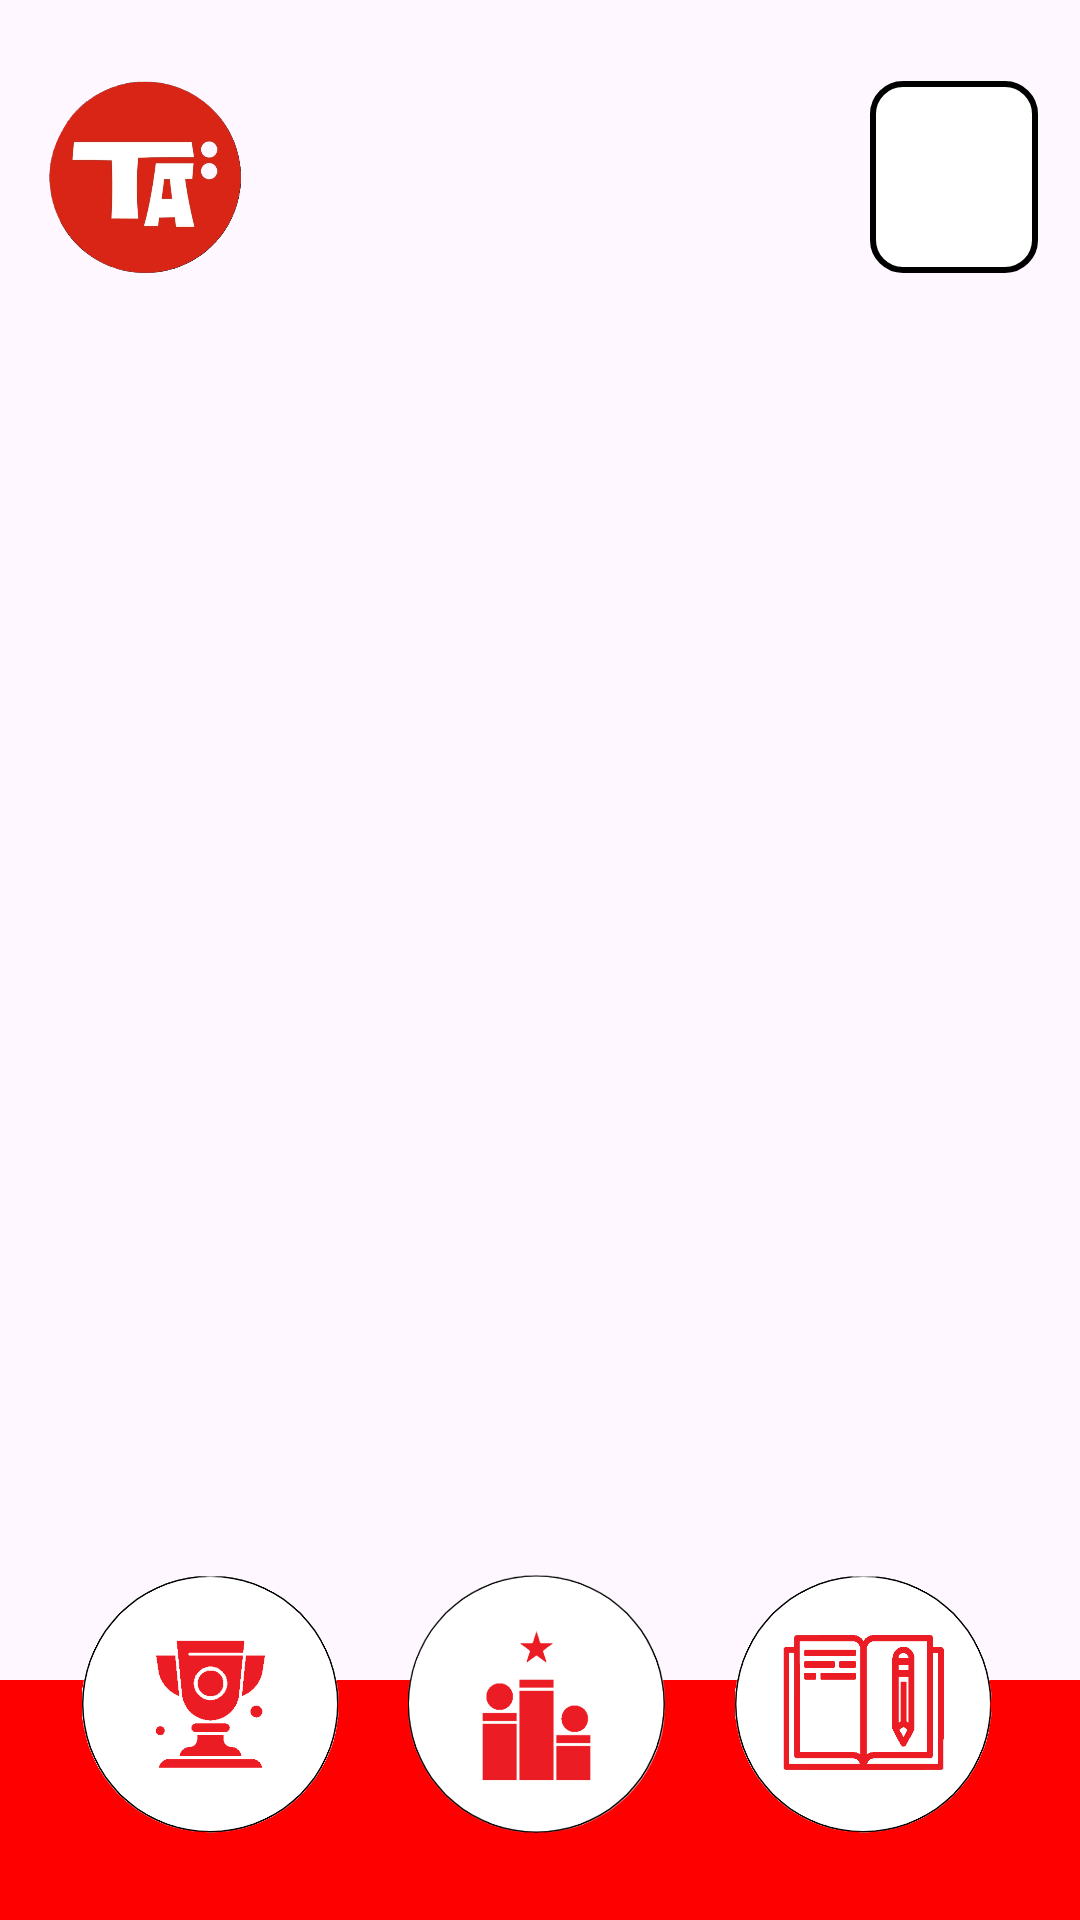

Screen size 1080px x 1920px. Icon name, then its center in pixels as [x,y]:
actividades: [863,1704]
ranking: [536,1704]
trofeo: [210,1704]
